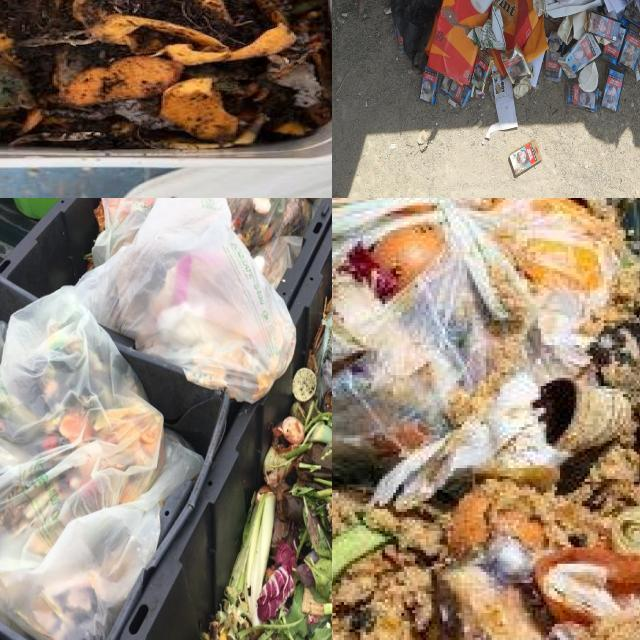Cig_pack: (558, 33, 601, 79), (508, 139, 541, 176), (500, 47, 532, 84), (566, 80, 599, 112), (471, 51, 493, 97), (601, 69, 624, 112), (588, 12, 620, 42), (439, 77, 471, 106), (602, 27, 626, 64), (619, 31, 640, 71), (420, 68, 439, 104), (619, 9, 640, 38), (546, 51, 562, 82)
Garbage: (332, 327, 640, 640), (332, 198, 625, 477), (0, 287, 203, 640), (77, 198, 313, 401), (203, 296, 332, 640), (390, 0, 640, 138), (420, 73, 439, 103)
Plastic_Bag: (0, 287, 164, 572), (75, 198, 295, 402), (0, 432, 200, 640), (391, 0, 442, 69)
Thermocol: (470, 0, 493, 14)
